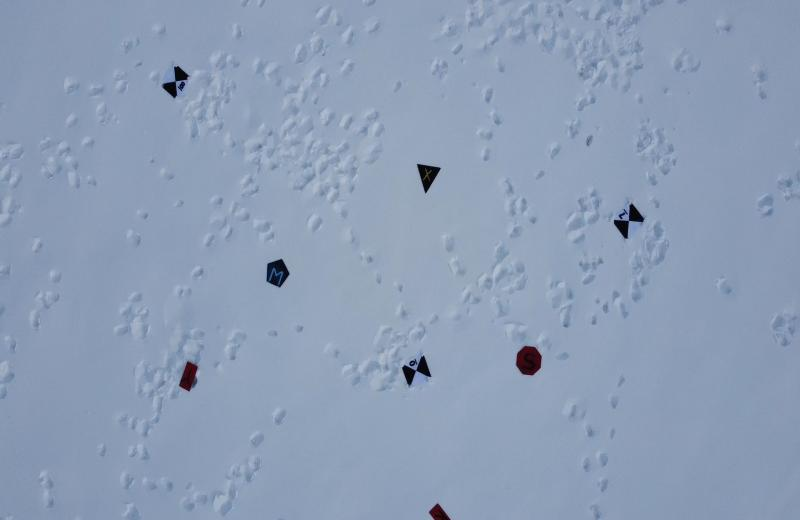Octagon: (513, 342, 544, 379)
Pentagon: (261, 254, 293, 291)
Rectangle: (175, 355, 201, 395), (425, 500, 452, 520)
Triangle: (411, 158, 443, 195)
